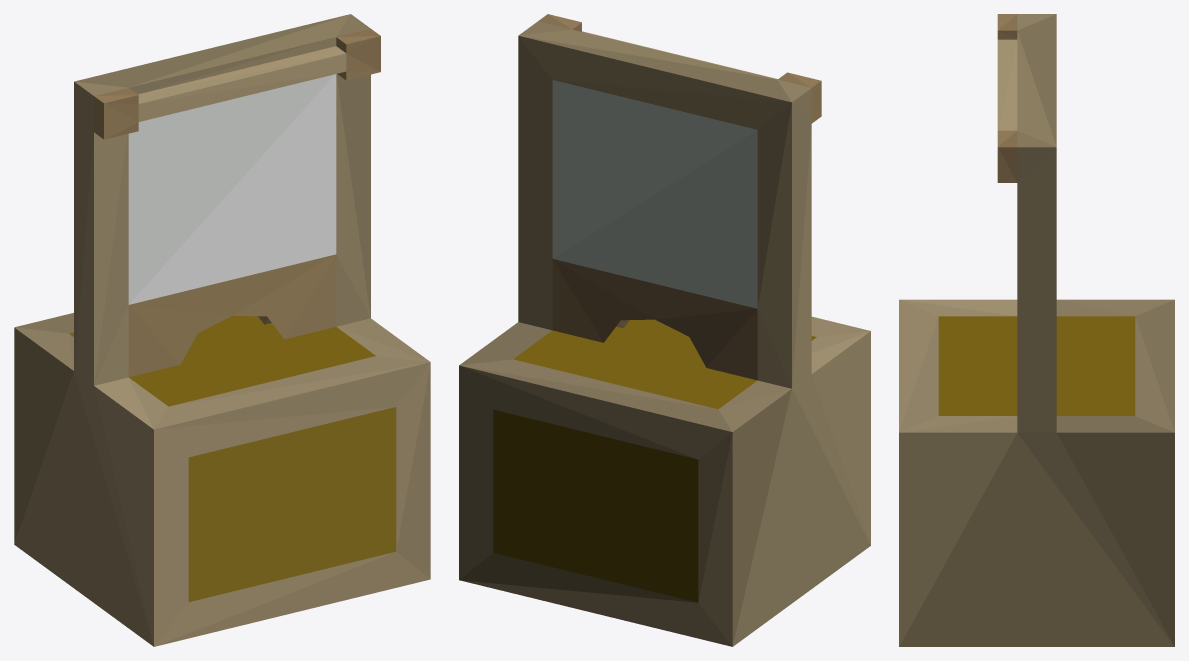
The model's file is Bank.fbx.
3 renders of one model, left to right at view 1: azimuth 30°, elevation 25°; view 2: azimuth 150°, elevation 25°; view 3: azimuth 270°, elevation 25°, orthographic.
Parts seen in each view (by area): view 1: Object Bank booth 2026-08-02_12-28-24; view 2: Object Bank booth 2026-08-02_12-28-24; view 3: Object Bank booth 2026-08-02_12-28-24.
Boxes of the visible parts, x1=… form: Object Bank booth 2026-08-02_12-28-24: x1=14, y1=14, x2=430, y2=646; Object Bank booth 2026-08-02_12-28-24: x1=459, y1=14, x2=870, y2=646; Object Bank booth 2026-08-02_12-28-24: x1=899, y1=14, x2=1174, y2=646.
Size of the model in its own units: 12800 by 22400 by 11200.
